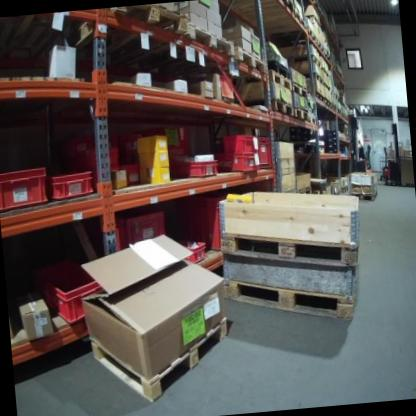pallet: (87, 312, 236, 408), (218, 219, 363, 278), (222, 268, 360, 328), (71, 1, 195, 65), (173, 19, 240, 66), (239, 93, 298, 123), (231, 42, 267, 74), (258, 0, 297, 23), (278, 52, 323, 69), (267, 65, 293, 93), (292, 72, 324, 89), (289, 7, 308, 33), (293, 104, 311, 127), (353, 189, 379, 203), (293, 81, 309, 97), (307, 93, 325, 107), (296, 186, 311, 194)
pallet_truck: (346, 112, 378, 180), (374, 120, 407, 185)
small_load_carrier: (39, 256, 108, 330), (189, 187, 249, 251), (60, 126, 121, 172), (0, 167, 48, 212), (48, 166, 96, 201), (130, 205, 172, 245), (103, 214, 134, 260), (156, 121, 195, 156), (169, 153, 217, 181), (171, 232, 209, 267), (86, 146, 121, 179), (210, 132, 258, 156), (217, 151, 258, 175), (123, 128, 147, 160), (256, 133, 275, 169), (122, 159, 143, 187)
